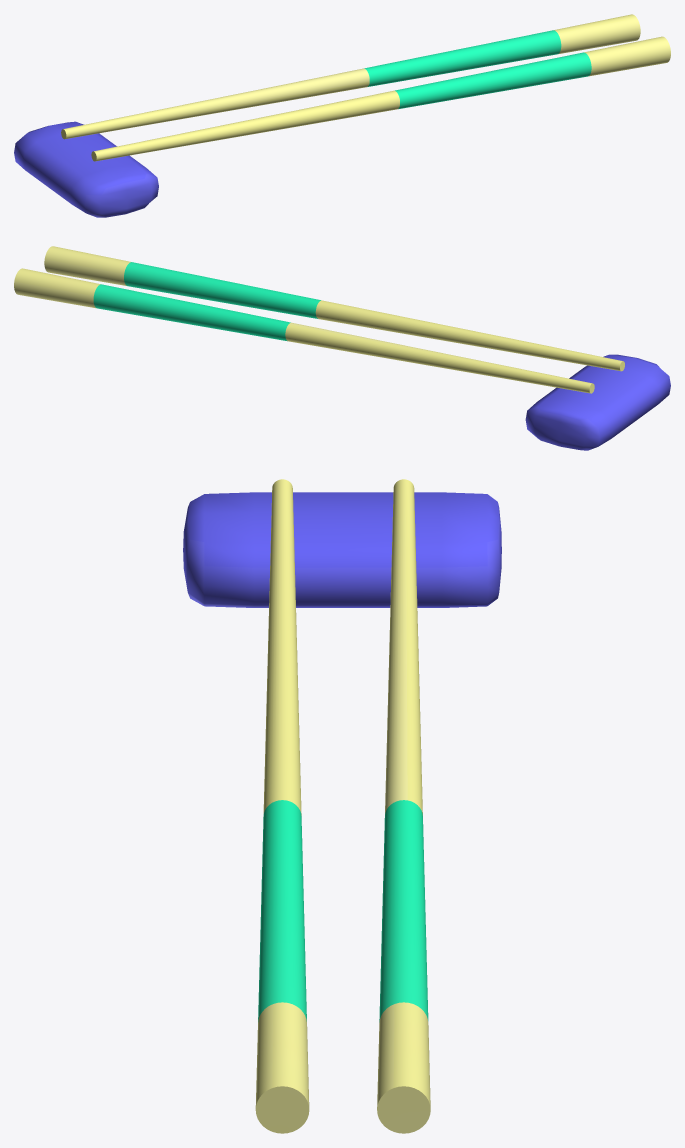
The model's file is Level 2, chopsticks.fbx.
3 views of the same model, one above another, from view 1: azimuth 30°, elevation 25°; view 2: azimuth 150°, elevation 25°; view 3: azimuth 270°, elevation 25° (orthographic). The views are drawn at different scales.
Visible parts, largest first — view 1: Chopstick holder, chopstick 2 upper, Chopstick 1, upper, Chopstick 1 middle, Chopstick 2 middle, Chopstick 2 lower, Chopstick 1 lower; view 2: Chopstick holder, Chopstick 1, upper, chopstick 2 upper, Chopstick 2 middle, Chopstick 1 middle, Chopstick 1 lower, Chopstick 2 lower; view 3: Chopstick holder, Chopstick 1, upper, chopstick 2 upper, Chopstick 1 middle, Chopstick 2 middle, Chopstick 1 lower, Chopstick 2 lower.
Part boxes in pixels (x1,y1,x2,y2): Chopstick holder: (14,121,158,217); chopstick 2 upper: (61,68,369,139); Chopstick 1, upper: (91,90,399,161); Chopstick 1 middle: (395,52,591,109); Chopstick 2 middle: (364,30,561,86); Chopstick 2 lower: (554,14,640,54); Chopstick 1 lower: (584,36,670,76); Chopstick holder: (525,354,670,450); Chopstick 1, upper: (315,300,624,371); chopstick 2 upper: (285,322,594,393); Chopstick 2 middle: (93,284,290,341); Chopstick 1 middle: (124,262,320,318); Chopstick 1 lower: (44,246,130,285); Chopstick 2 lower: (14,268,100,308); Chopstick holder: (183,492,501,607); Chopstick 1, upper: (263,479,301,815); chopstick 2 upper: (385,479,422,815); Chopstick 1 middle: (258,800,306,1021); Chopstick 2 middle: (379,800,428,1022); Chopstick 1 lower: (255,1002,309,1133); Chopstick 2 lower: (377,1002,430,1133).
Size of the model in its own units: 272 by 21.73 by 62.41.
1 material, 1 textured.
